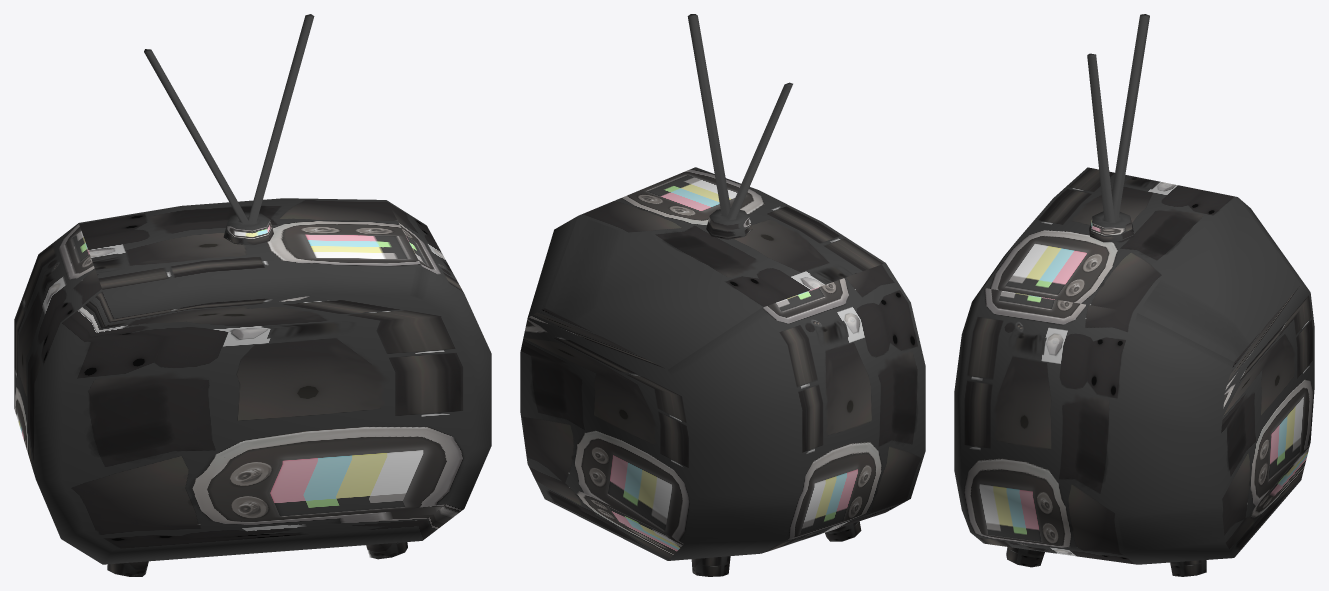
The picture shows the model from 3 angles, left to right: view 1: azimuth 30°, elevation 25°; view 2: azimuth 150°, elevation 25°; view 3: azimuth 270°, elevation 25°; orthographic projection. The views are drawn at different scales.
Parts seen in each view (by area): view 1: tv; view 2: tv; view 3: tv.
Part boxes in pixels (x1,y1,x2,y2): tv: (14, 14, 491, 576); tv: (520, 14, 925, 576); tv: (954, 14, 1314, 576).
Size of the model in its own units: 1.9 by 2.26 by 1.51.
